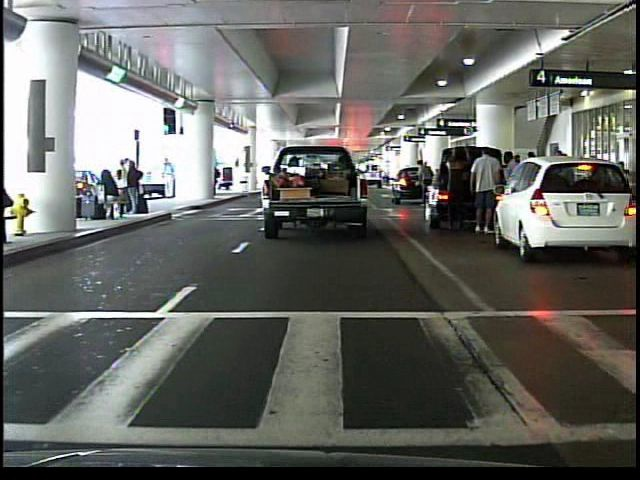person: (438, 141, 472, 233), (468, 144, 501, 238), (499, 147, 521, 233), (413, 154, 436, 209), (161, 155, 179, 199), (620, 158, 635, 203)
